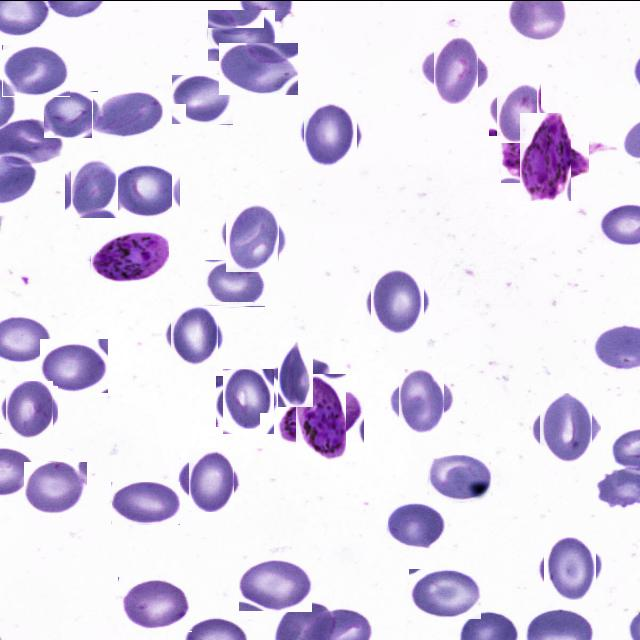difficult: (90, 230, 169, 282)
red blood cell: (219, 42, 298, 94), (118, 576, 192, 631), (222, 205, 284, 268), (238, 559, 312, 611), (535, 396, 597, 457), (408, 568, 481, 619), (40, 338, 108, 392), (114, 163, 180, 218), (368, 272, 428, 332), (300, 105, 360, 165), (2, 44, 70, 96), (207, 9, 275, 61), (541, 539, 599, 597), (220, 372, 278, 429), (24, 461, 87, 513), (92, 91, 163, 137), (171, 74, 233, 124), (428, 42, 483, 98), (394, 372, 449, 428), (428, 454, 491, 502), (110, 481, 180, 524), (203, 259, 266, 306), (168, 307, 222, 361), (184, 452, 238, 506), (2, 382, 56, 436), (270, 345, 322, 398), (388, 502, 447, 548), (492, 86, 544, 138), (68, 162, 120, 214), (44, 90, 98, 137)
schizont: (510, 120, 580, 190)
trophozoite: (286, 382, 355, 451)
